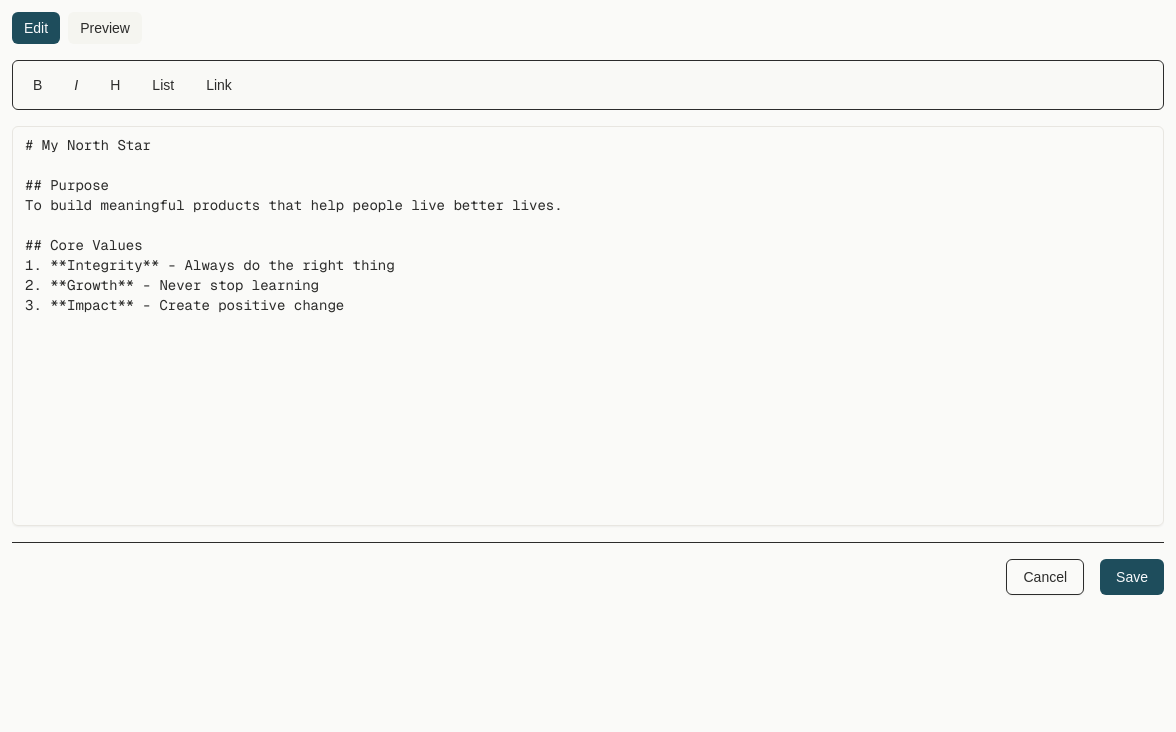
AC2: NorthStarEditor Component › Save Functionality (AC2) › should handle save error gracefully
Click the button "Save".
click(1132, 577)  # box [1100,559,1164,595]
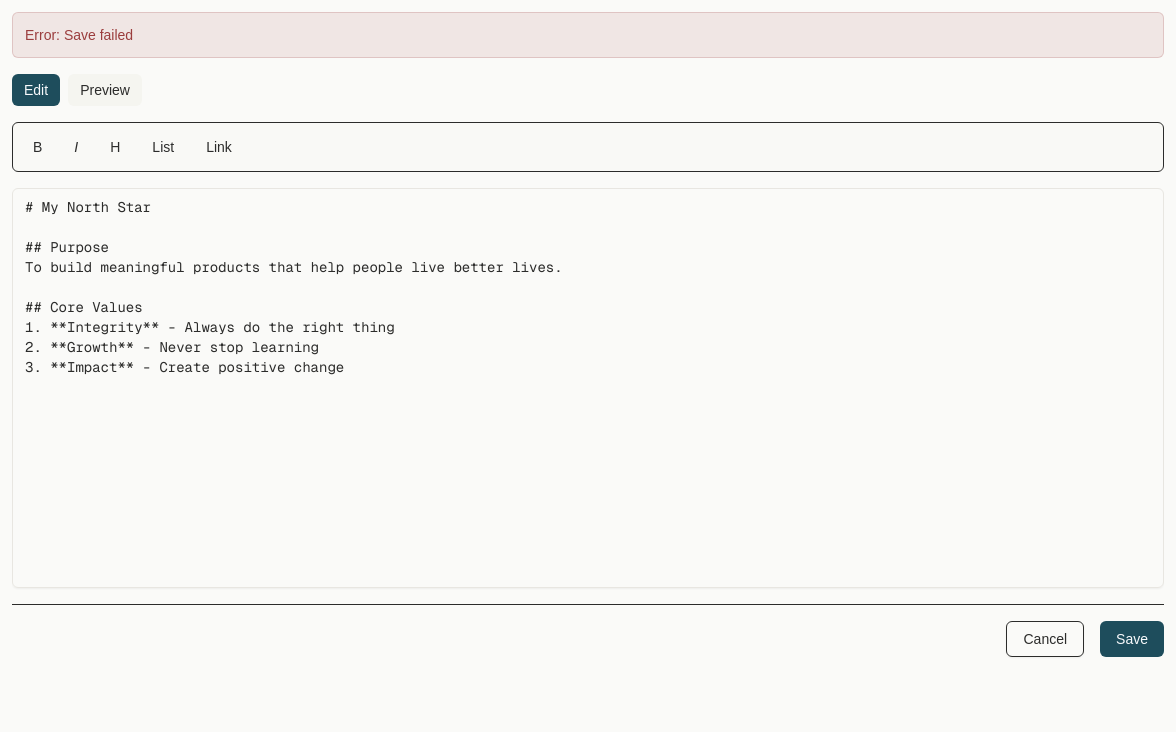
Now the text "Error: Save failed" is shown, box [12,12,1164,58]
